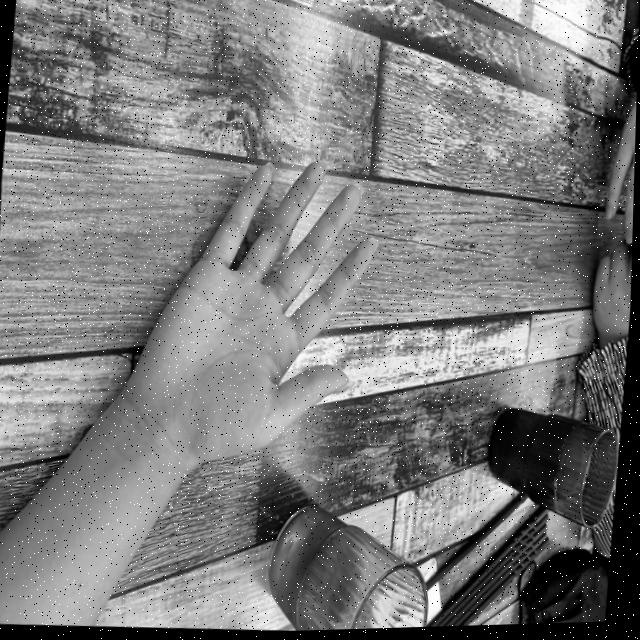hand: (106, 118, 396, 521)
